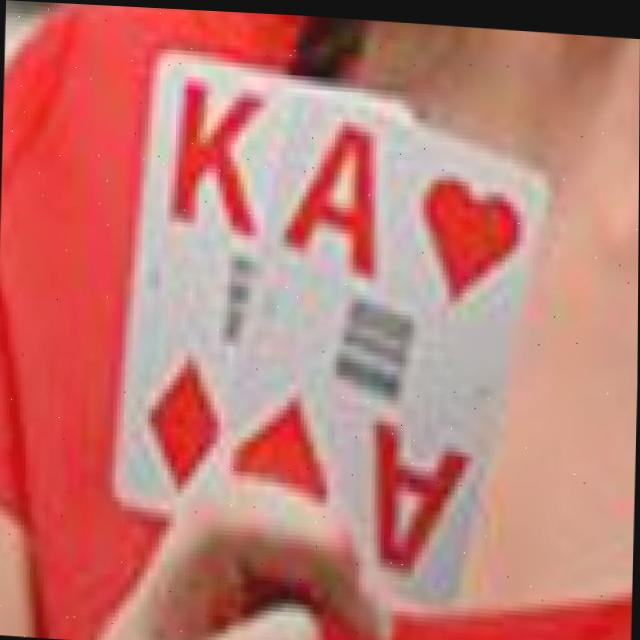Card-A: (220, 83, 554, 596)
Card-K: (114, 46, 300, 500)
